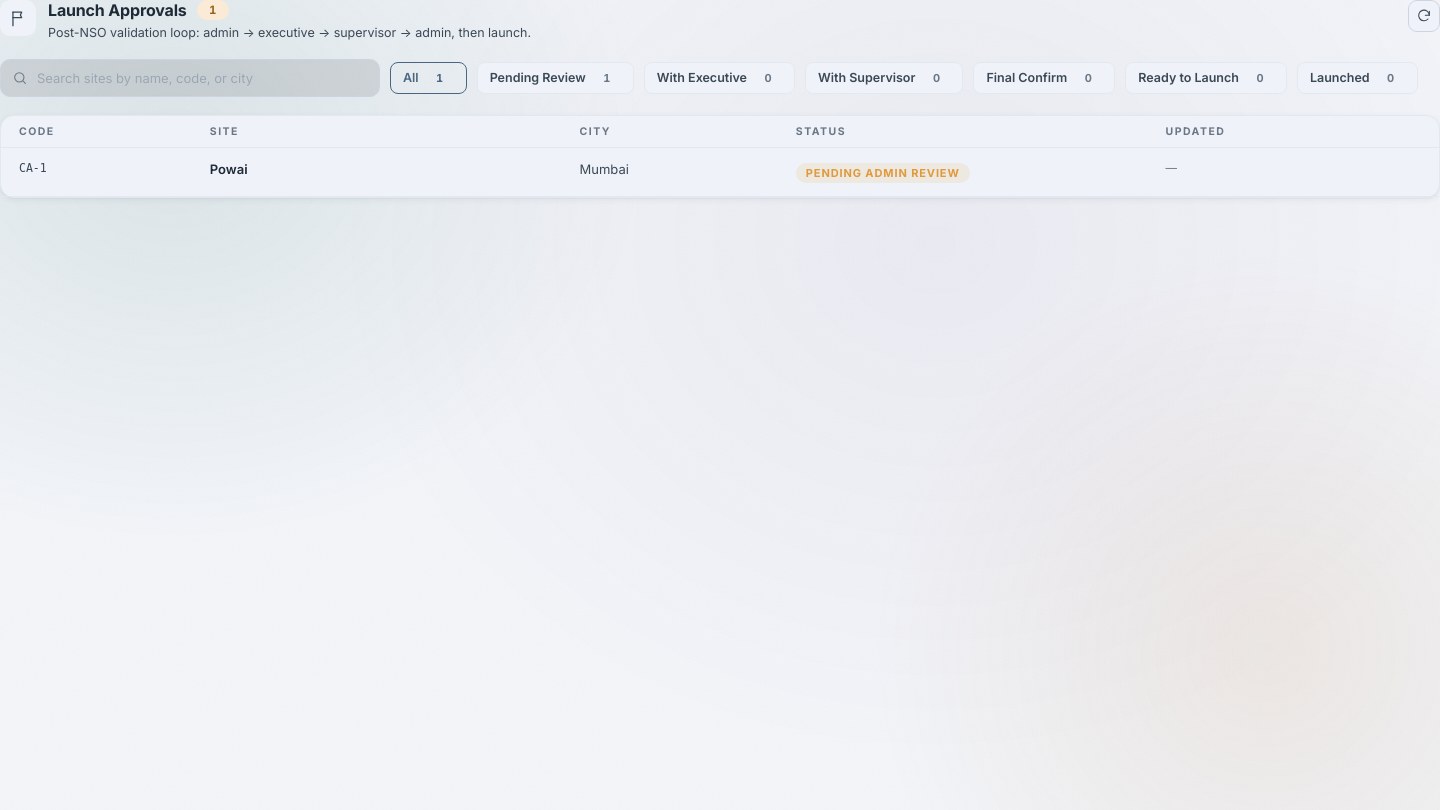
LaunchApprovalTab — unsaved changes guard › keeps edits typed while a save is in flight, and stays dirty
Click the text "Powai" at (229, 169), box [210,161,248,177]
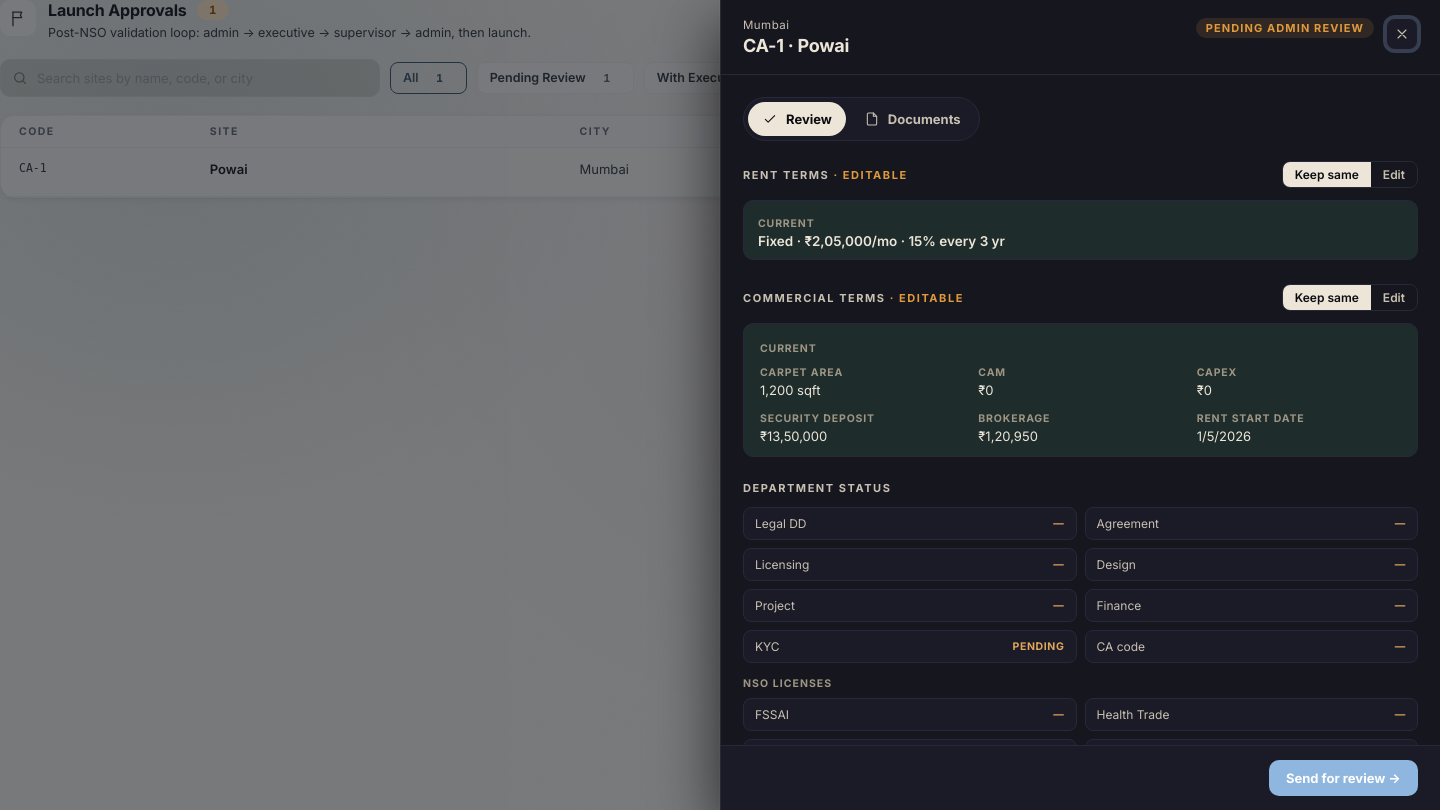
Click the button with aria-label "Edit commercial terms" at (1394, 298), box [1371,285,1417,310]
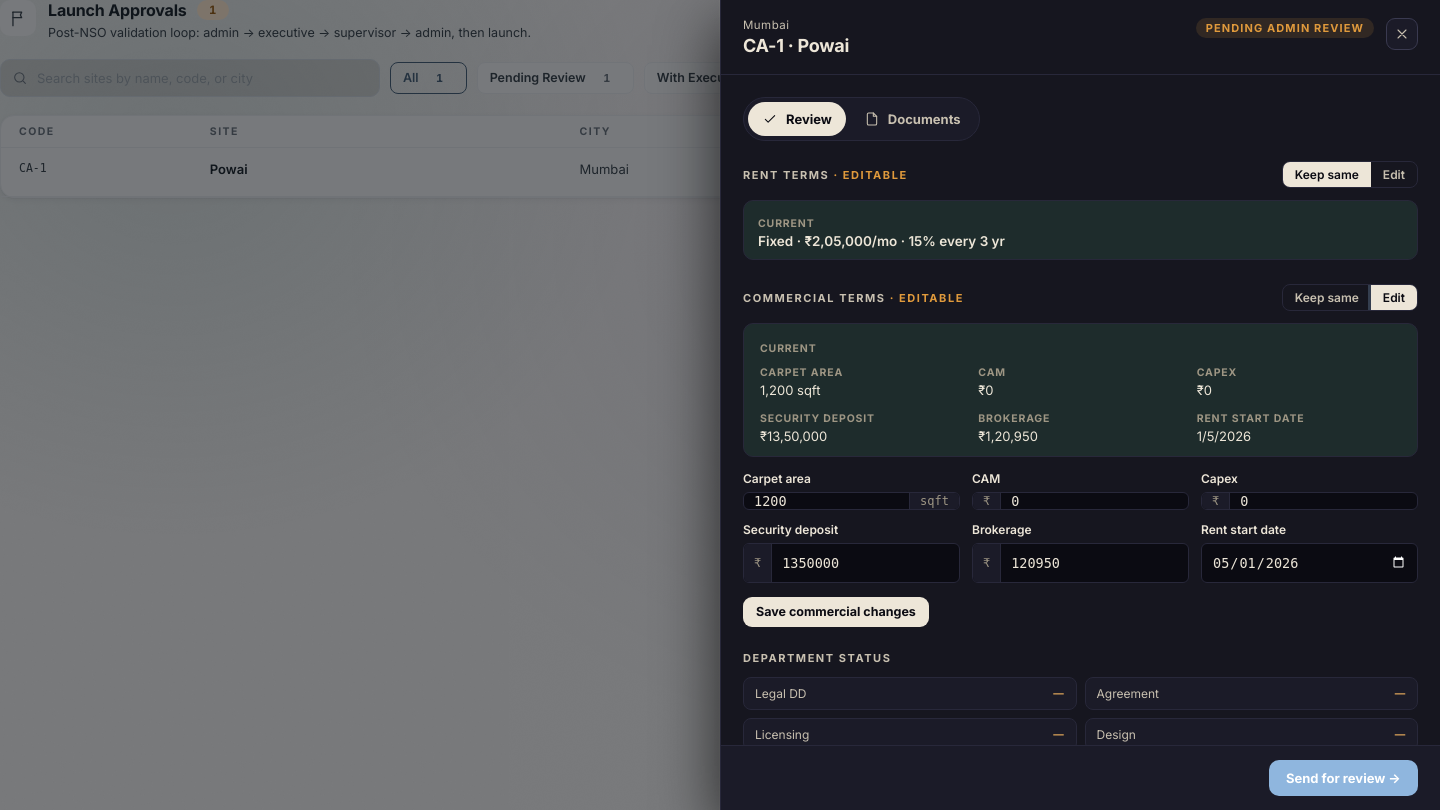
Type "5" into the 1st number field at (827, 501), box [744,493,909,509]
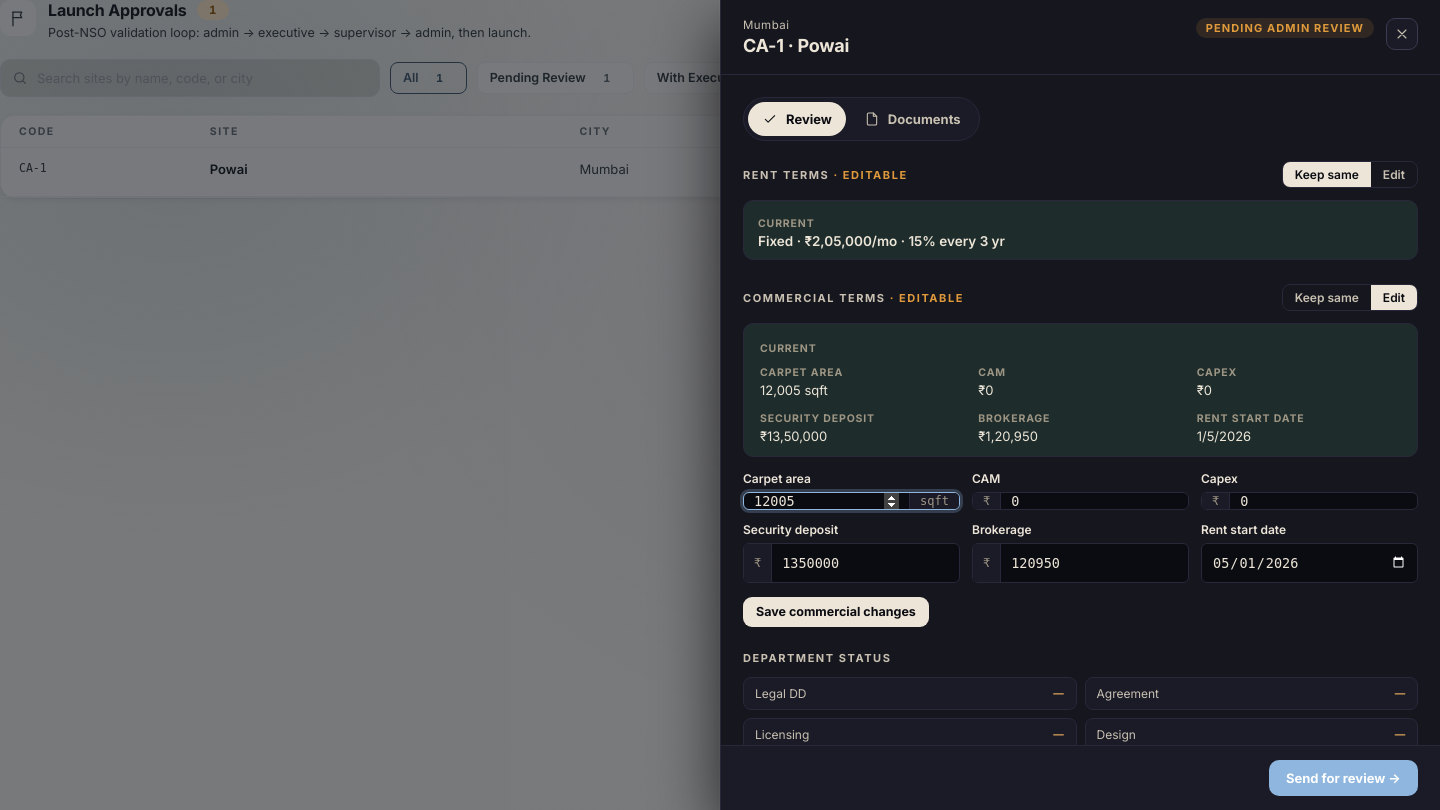
Click the button "Save commercial changes" at (836, 612), box [743,597,929,627]
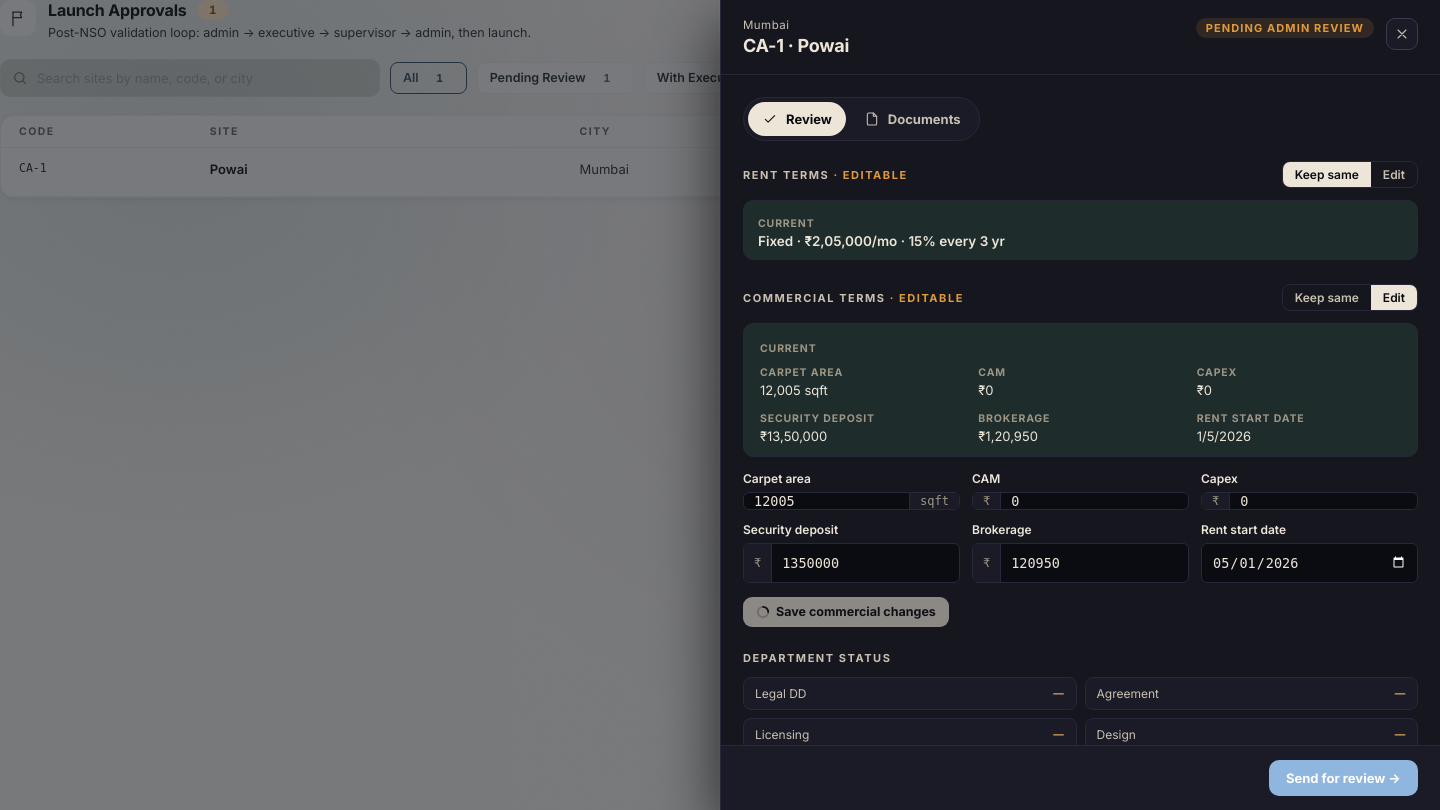
Type "7" into the 1st number field at (827, 501), box [744,493,909,509]
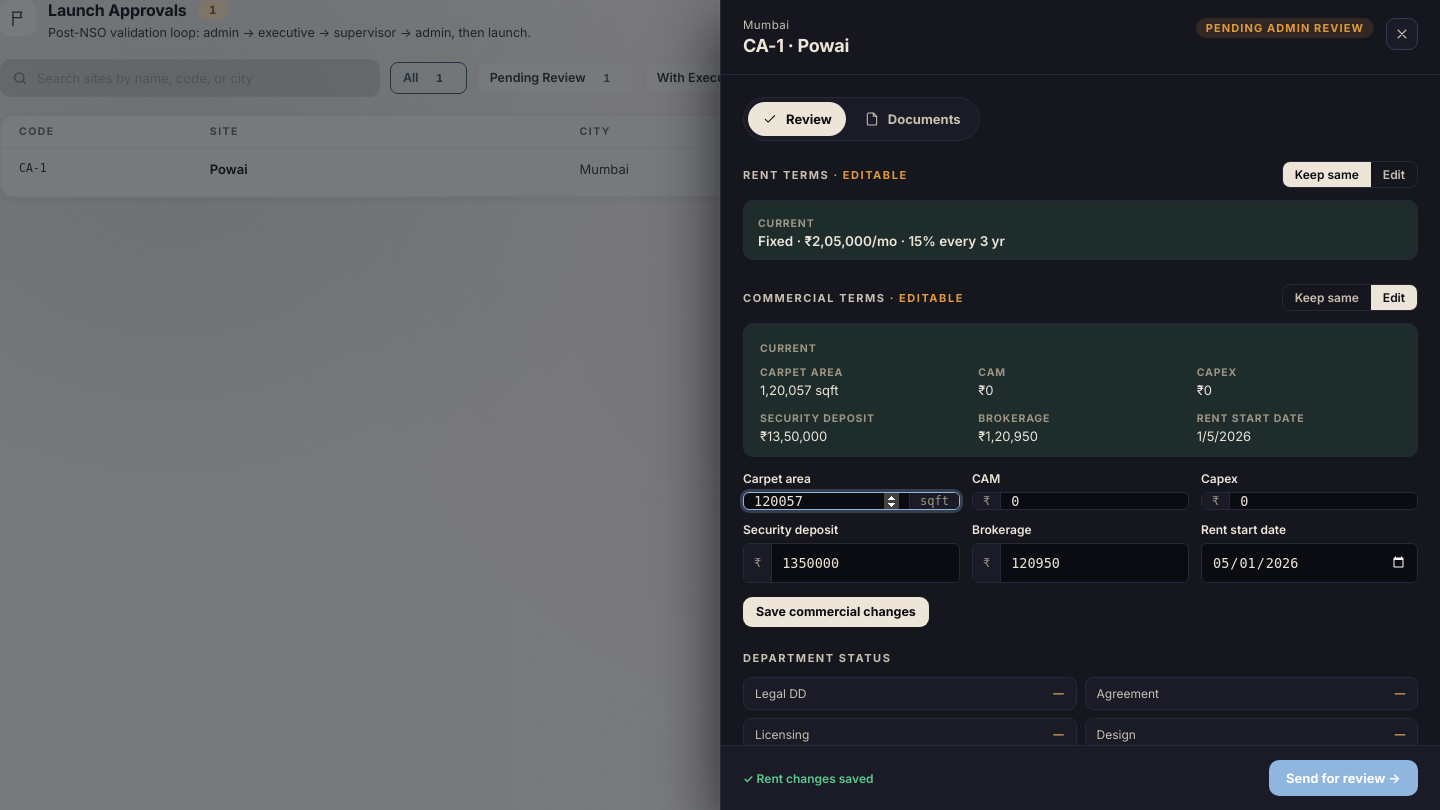
Expected: the 1st number field holds "120057", [744,493,909,509]
Click the button "Send for review →" at (1344, 778), box [1269,760,1418,796]
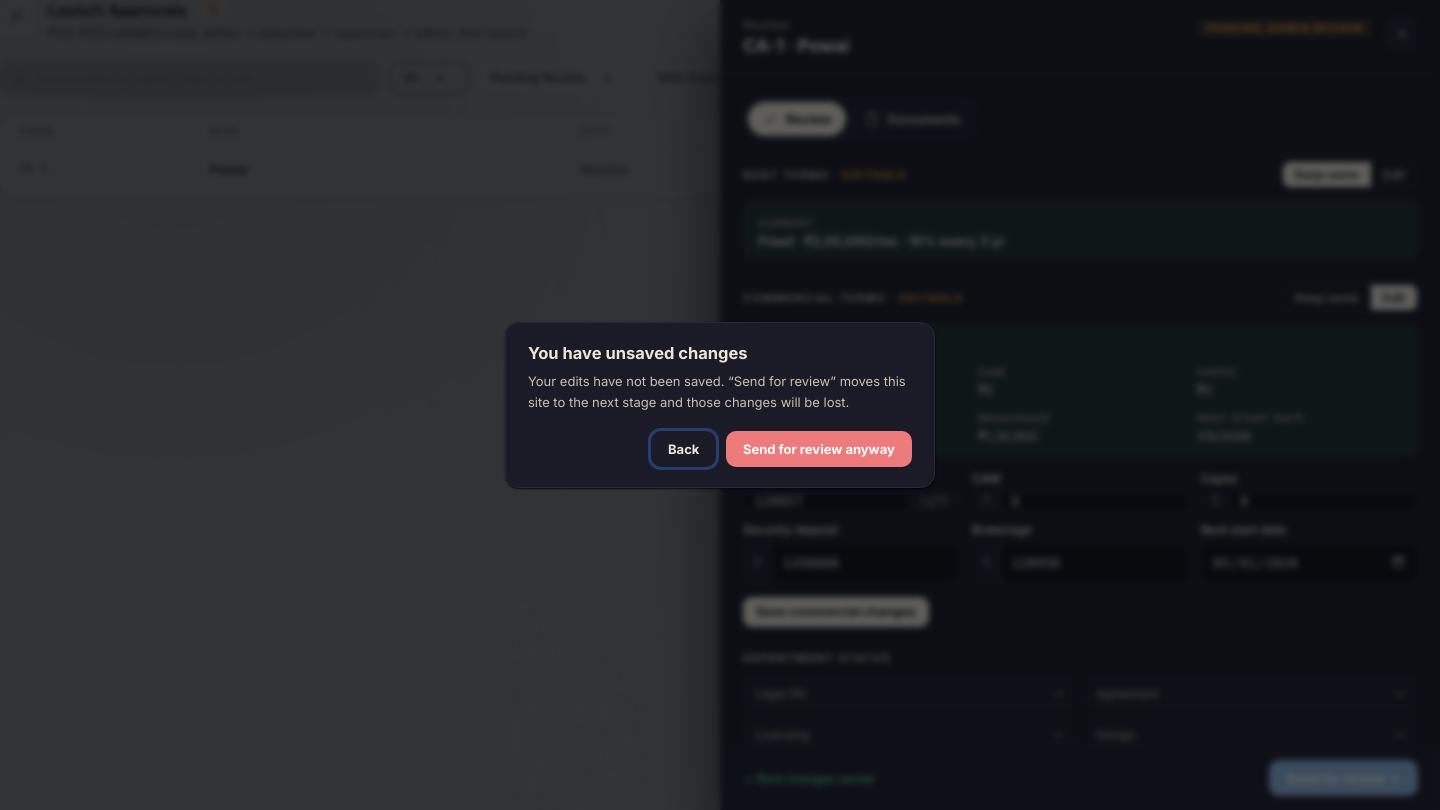
Expected: the heading "You have unsaved changes" is shown, [528,343,748,363]
